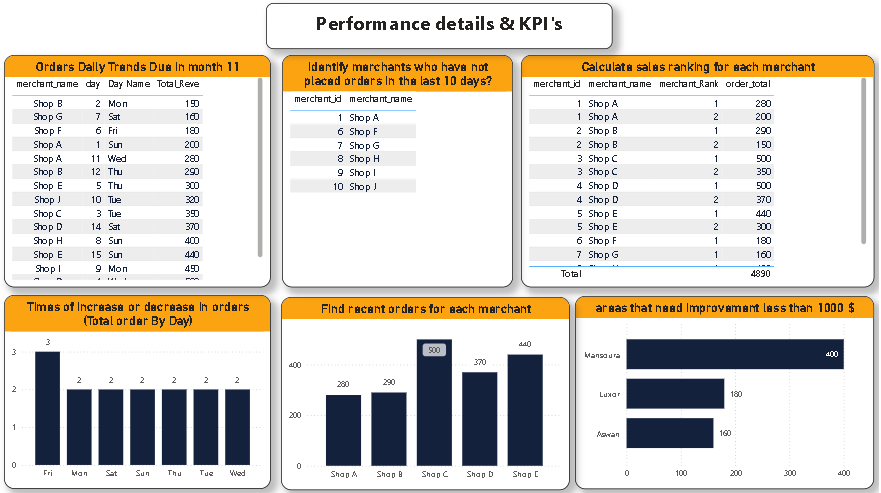

The page's visual inventory and layout, read from the dashboard file:
{"tool":"powerbi","page":{"name":"Page 2","canvas":[1280,720],"ordinal":1},"visuals":[{"type":"clusteredBarChart","title":"areas that need improvement  less than 1000 $","fields":{"Category":["Query10.region_name"],"Y":["Sum(Query10.total_sales)"]},"box":[838.2,433.4,435.1,280.5],"z":0},{"type":"columnChart","title":"Times of increase or decrease in orders (Total order By Day)","fields":{"Y":["Sum(Query11.Count_Orders)"],"Category":["Query11.Day Name"]},"box":[6.7,431.7,388,282.2],"z":1000},{"type":"lineClusteredColumnComboChart","title":"Find recent orders for each merchant","fields":{"Category":["Query12.merchant_name","Query12.order_date.Variation.Date Hierarchy.Day"],"Y":["Sum(Query12.order_total)"]},"box":[409.9,435.1,419.9,280.5],"z":2000},{"type":"tableEx","title":"Calculate sales ranking for each merchant","fields":{"Values":["Query13.merchant_id","Query13.merchant_name","Query13.merchant_Rank","Sum(Query13.order_total)"]},"box":[759.3,82.3,514,337.6],"z":3000},{"type":"tableEx","title":"Orders Daily Trends Due in month 11","fields":{"Values":["Query4.merchant_name","Query4.day","Query4.Day Name","Query4.Total_Reve"]},"box":[6.7,82.3,388,337.6],"z":4000},{"type":"tableEx","title":"Identify merchants who have not placed orders in the last 10 days?","fields":{"Values":["Query17.merchant_id","Query17.merchant_name"]},"box":[411.5,82.3,336,337.6],"z":5000},{"type":"textbox","box":[388,6.7,503.9,67.2],"z":5001}]}

Visuals, with their boxes in screenshot pixels (x1, y1, x2, y2), scaled from the page's 1280x720 canvas onto the 881x493 screenshot:
"areas that need improvement  less than 1000 $" clusteredBarChart: locate(577, 297, 876, 489)
"Times of increase or decrease in orders (Total order By Day)" columnChart: locate(5, 296, 272, 489)
"Find recent orders for each merchant" lineClusteredColumnComboChart: locate(282, 298, 571, 490)
"Calculate sales ranking for each merchant" tableEx: locate(523, 56, 876, 288)
"Orders Daily Trends Due in month 11" tableEx: locate(5, 56, 272, 288)
"Identify merchants who have not placed orders in the last 10 days?" tableEx: locate(283, 56, 514, 288)
textbox: locate(267, 5, 614, 51)
